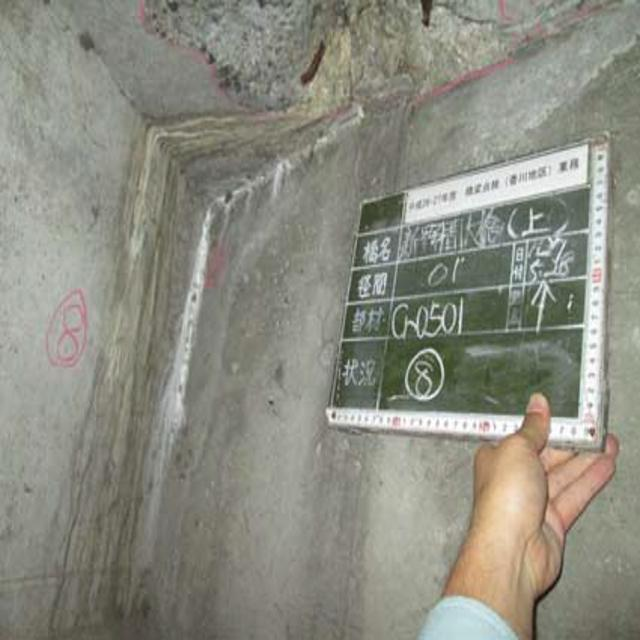freelime: (113, 166, 224, 531)
